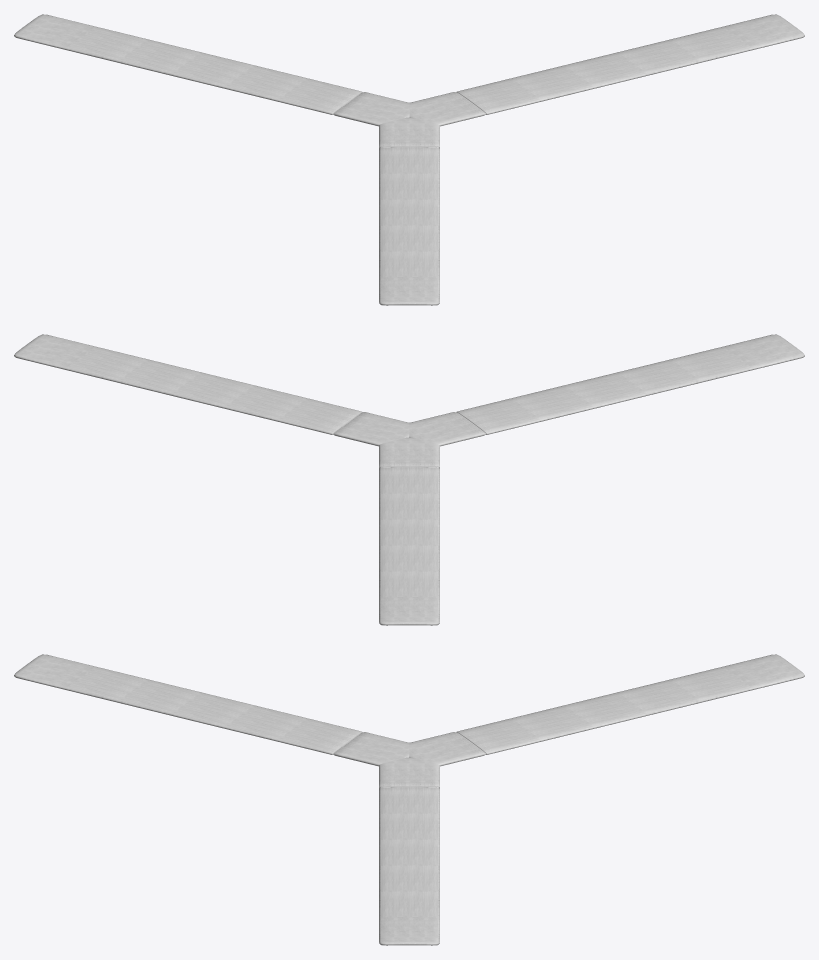
File: Aspas.obj
3 renders of one model, top to bottom at view 1: azimuth 30°, elevation 25°; view 2: azimuth 150°, elevation 25°; view 3: azimuth 270°, elevation 25°, orthographic.
Parts seen in each view (by area): view 1: Aspa1, Aspa3, Aspa2; view 2: Aspa2, Aspa3, Aspa1; view 3: Aspa1, Aspa2, Aspa3.
Part boxes in pixels (<box>): Aspa1: <box>14,14,409,126</box>; Aspa3: <box>409,14,804,126</box>; Aspa2: <box>379,117,439,305</box>; Aspa2: <box>409,334,804,446</box>; Aspa3: <box>14,334,409,446</box>; Aspa1: <box>379,437,439,625</box>; Aspa1: <box>409,654,804,766</box>; Aspa2: <box>14,654,409,766</box>; Aspa3: <box>379,757,439,945</box>.
Bounding box in the file's own units: 7.84 × 0.0372 × 9.04.
1 material, 1 textured.
